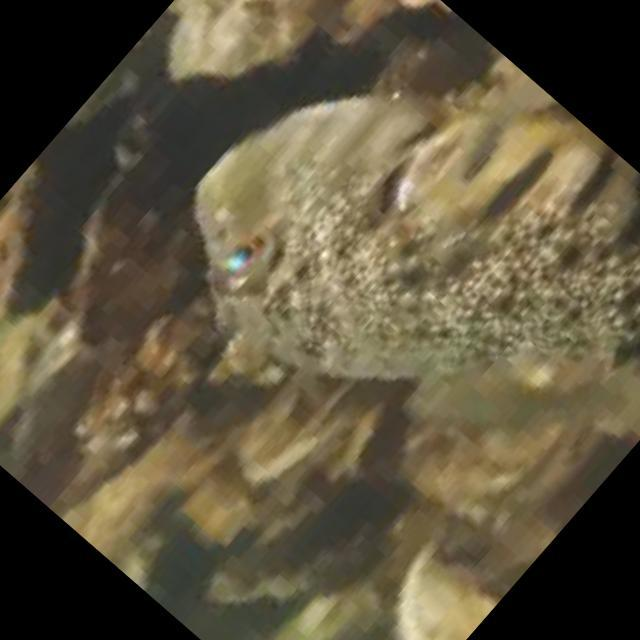Oyster- Indeterminate: (76, 289, 221, 460), (397, 412, 597, 534), (207, 482, 400, 602), (166, 0, 316, 85), (406, 542, 496, 640), (370, 28, 485, 93), (170, 0, 233, 19)
Oyster-Closed: (232, 370, 375, 483)
Oyster-Open: (4, 71, 270, 340)
